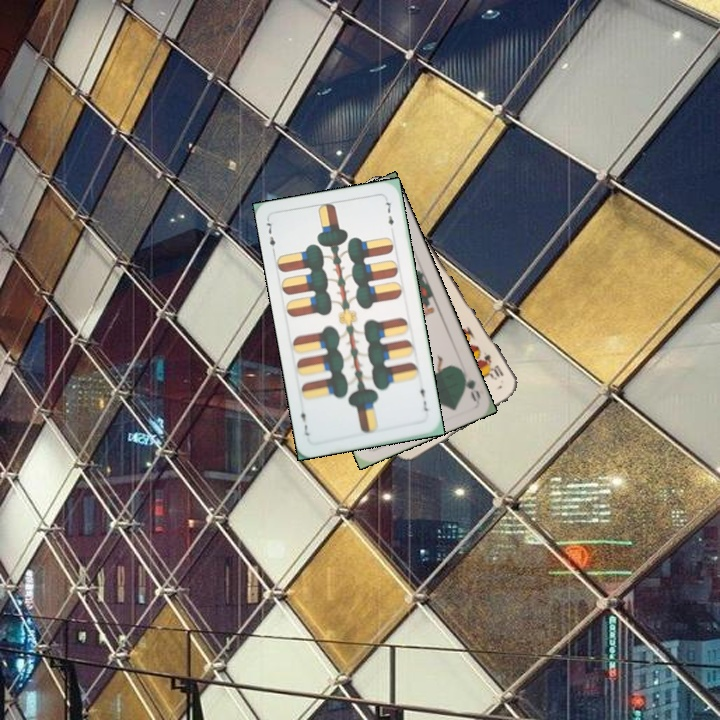E10: (479, 350, 506, 382)
E7: (262, 216, 278, 256), (416, 380, 432, 414)
GO: (456, 365, 483, 403)
